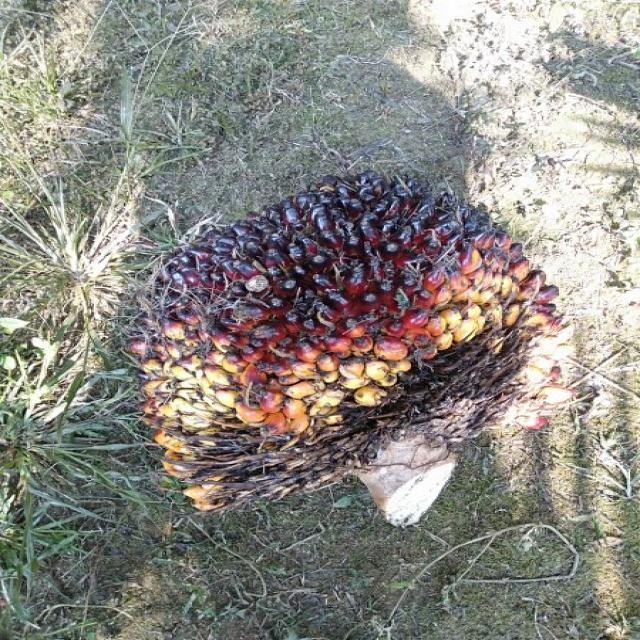fraksi 00: (79, 132, 605, 534)
